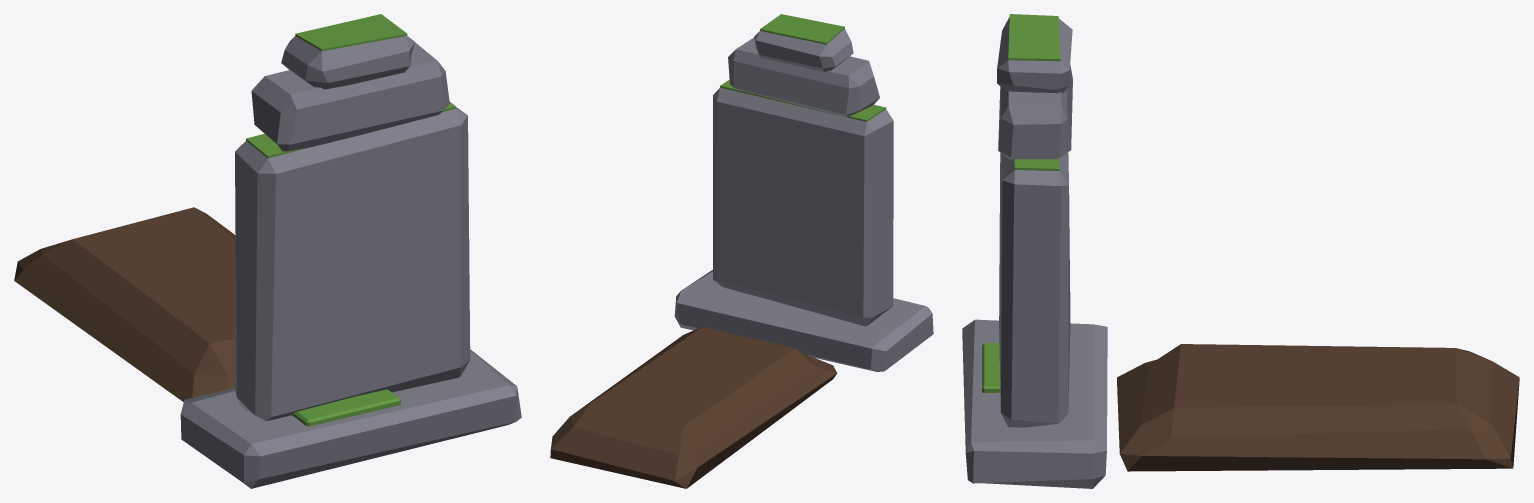
File: Gravestone1.fbx
3 renders of one model, left to right at view 1: azimuth 30°, elevation 25°; view 2: azimuth 150°, elevation 25°; view 3: azimuth 270°, elevation 25°, orthographic. The views are drawn at different scales.
Parts seen in each view (by area): view 1: Stone, Mound, Moss; view 2: Stone, Mound, Moss; view 3: Mound, Stone, Moss.
Boxes of the visible parts, x1,y1,x2,y2 form: Stone: [180, 36, 521, 488]; Mound: [14, 207, 235, 401]; Moss: [246, 14, 455, 426]; Stone: [674, 28, 933, 371]; Mound: [550, 326, 837, 488]; Moss: [720, 14, 886, 121]; Mound: [1117, 344, 1519, 471]; Stone: [962, 17, 1107, 488]; Moss: [982, 14, 1060, 393].
Bounding box in the file's own units: 2.64 × 3.72 × 4.74.
